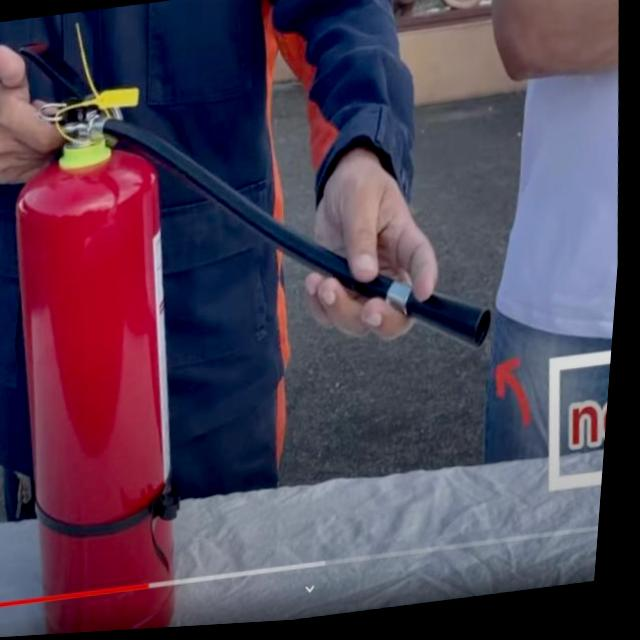FireExtinguisher: (0, 0, 545, 640)
